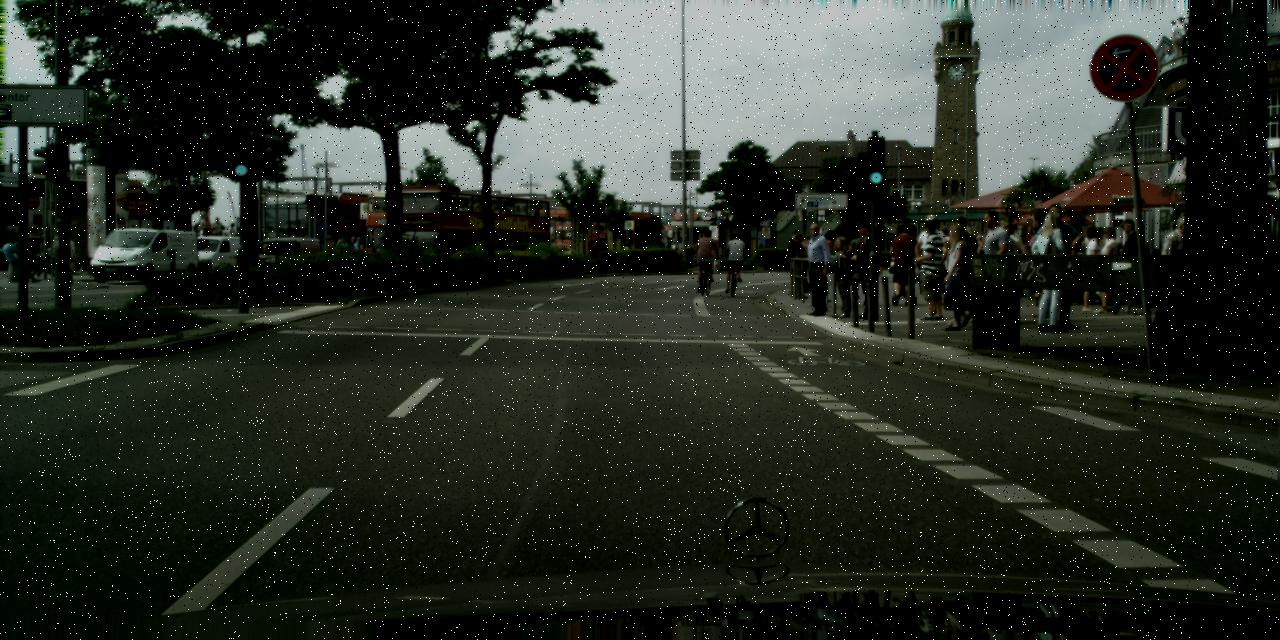ped: (1026, 209, 1076, 332), (1032, 204, 1081, 325), (934, 221, 980, 331), (971, 210, 1015, 319), (1021, 214, 1063, 318), (910, 220, 951, 320), (844, 220, 884, 319), (1156, 215, 1195, 314), (1106, 219, 1146, 314), (942, 216, 980, 311), (797, 223, 834, 315), (1095, 226, 1131, 313), (915, 213, 950, 301), (1080, 228, 1114, 310), (998, 223, 1031, 306), (887, 223, 919, 304), (1076, 224, 1108, 304), (825, 236, 857, 316), (928, 225, 959, 304), (847, 223, 877, 298), (994, 228, 1020, 294), (788, 232, 811, 290), (695, 228, 718, 285), (968, 236, 990, 292), (788, 229, 810, 284), (723, 230, 745, 284), (59, 232, 79, 282), (10, 229, 28, 272), (1174, 16, 1190, 54), (1168, 19, 1183, 57), (1181, 17, 1196, 52), (800, 234, 813, 268), (821, 238, 834, 271), (210, 217, 222, 247), (1162, 48, 1174, 78), (200, 216, 211, 244), (227, 222, 237, 248), (335, 237, 345, 262), (321, 237, 331, 262), (352, 236, 362, 260), (346, 236, 356, 260), (684, 244, 694, 268), (661, 232, 674, 249), (315, 236, 324, 260), (194, 222, 203, 242), (357, 239, 365, 259), (622, 243, 629, 262), (314, 232, 319, 247)
